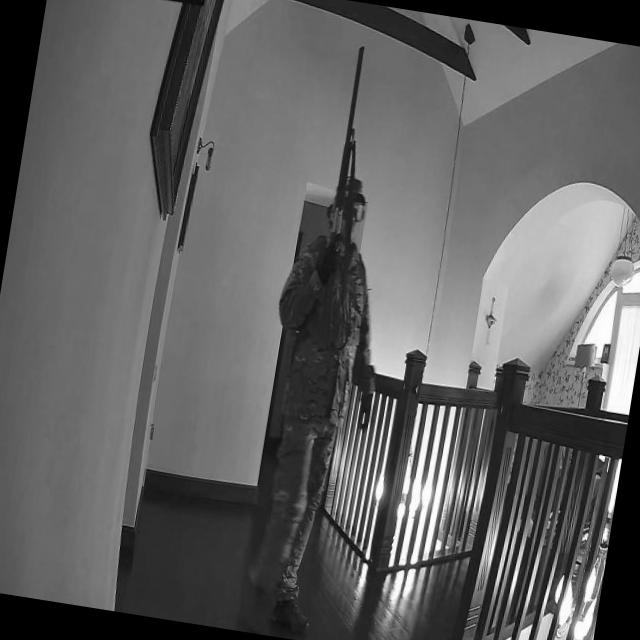gun: (308, 42, 382, 355)
person with a gun: (227, 33, 426, 640)
